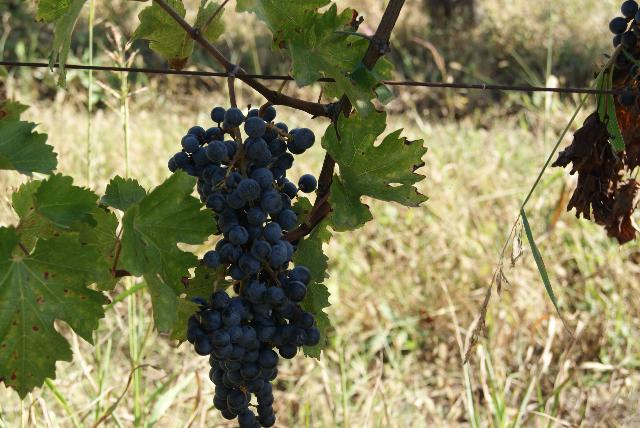grapes: (169, 106, 318, 268), (186, 268, 320, 428)
